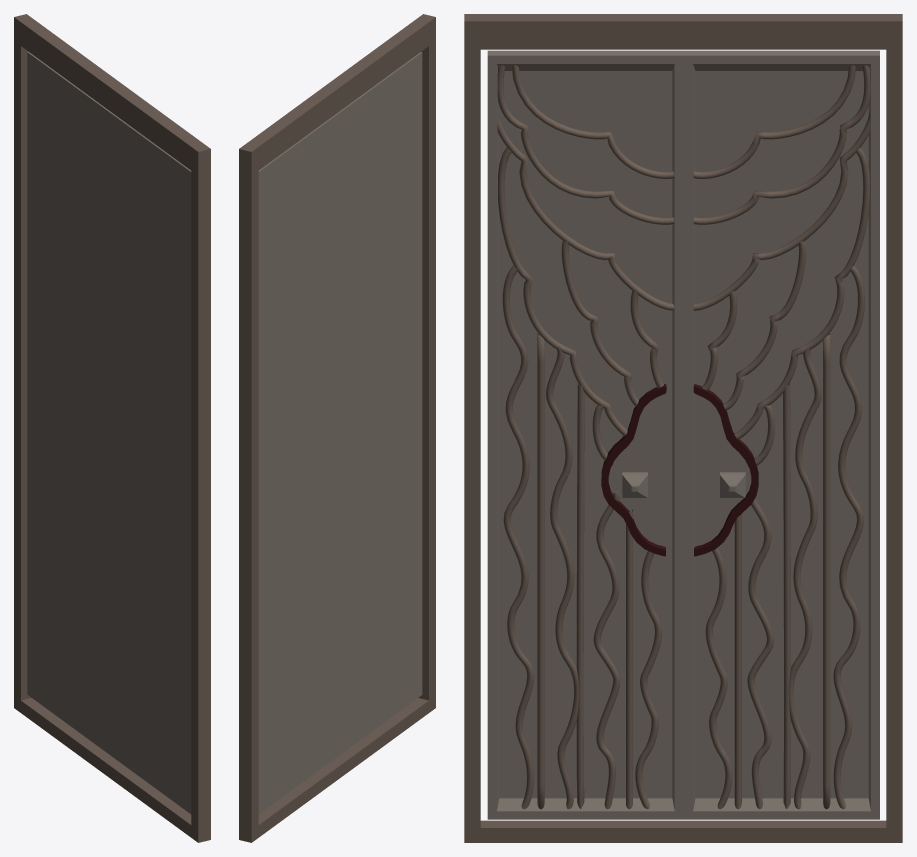
File: EscapeDoor1.fbx
3 renders of one model, left to right at view 1: azimuth 30°, elevation 25°; view 2: azimuth 150°, elevation 25°; view 3: azimuth 270°, elevation 25°, orthographic. The views are drawn at different scales.
Visible parts, largest first — view 1: door1_rightside, door1_leftside, door1_frame.002; view 2: door1_leftside, door1_rightside, door1_frame.002; view 3: door1_leftside, door1_rightside, door1_frame.002, pattern(R), pattern(L), door_handle(R, handle(L.
Boxes of the visible parts, bbox=[...] form: door1_rightside: bbox=[27, 51, 110, 754]; door1_leftside: bbox=[109, 112, 191, 814]; door1_frame.002: bbox=[14, 14, 210, 842]; door1_leftside: bbox=[338, 52, 422, 754]; door1_rightside: bbox=[258, 112, 339, 814]; door1_frame.002: bbox=[239, 14, 435, 842]; door1_leftside: bbox=[487, 50, 683, 819]; door1_rightside: bbox=[684, 50, 879, 819]; door1_frame.002: bbox=[464, 14, 902, 842]; pattern(R): bbox=[693, 65, 870, 809]; pattern(L): bbox=[497, 65, 674, 809]; door_handle(R: bbox=[693, 384, 758, 556]; handle(L: bbox=[601, 384, 666, 556].
Bounding box in the file's own units: 12.06 × 252 × 122.
